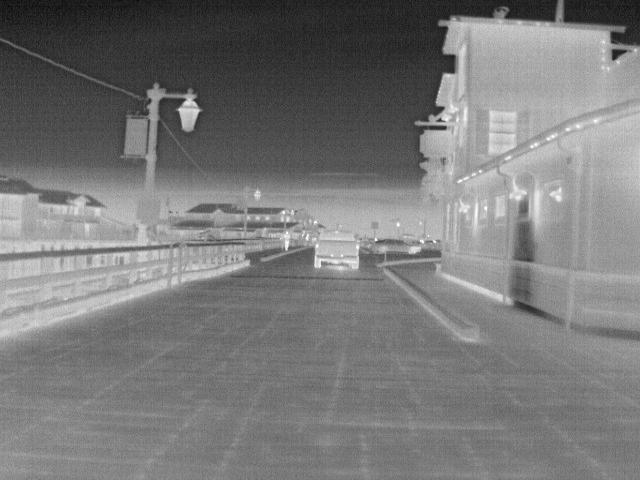car: (310, 227, 360, 272), (371, 235, 422, 256)
person: (281, 228, 294, 254)
